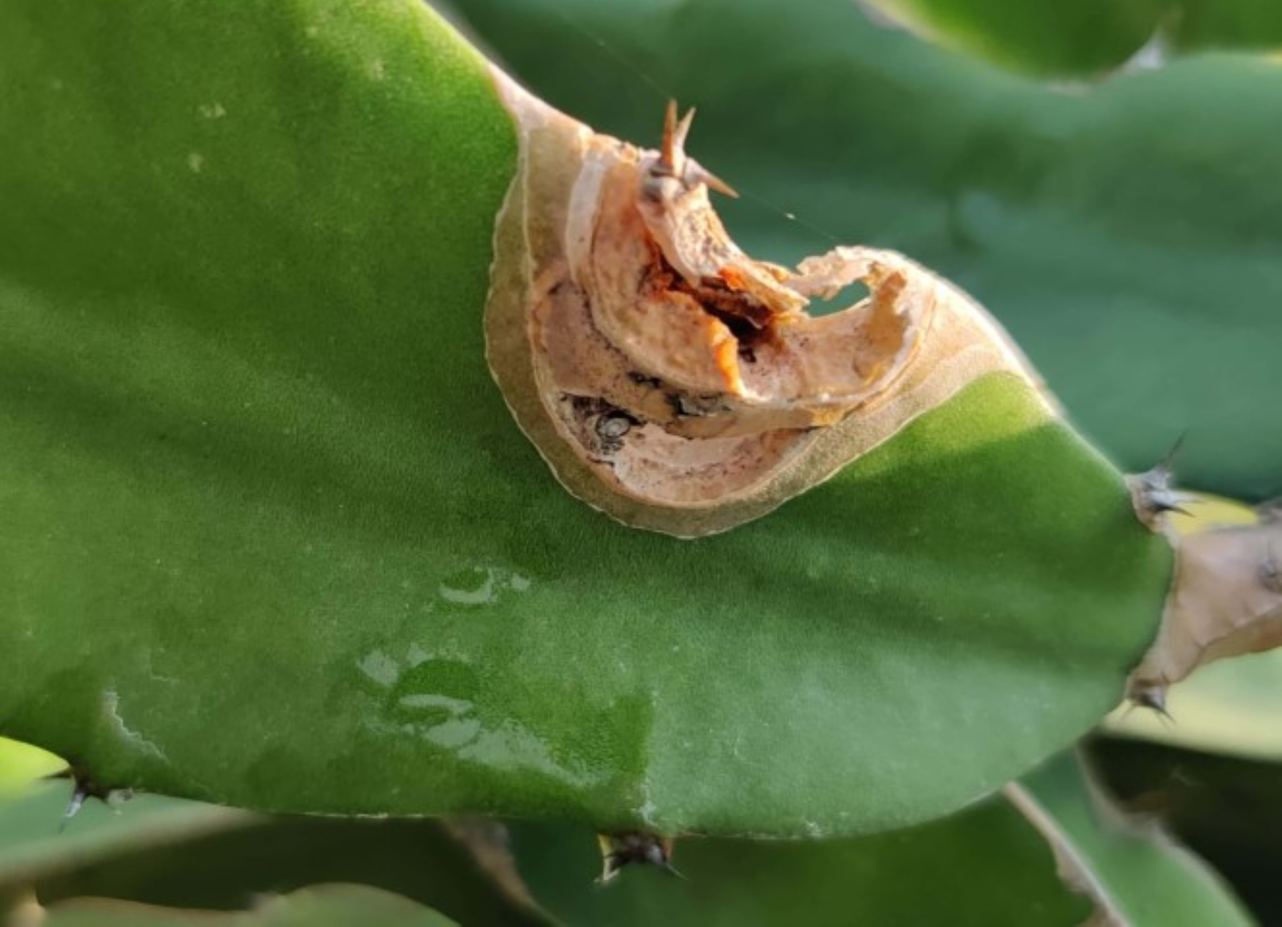stemcanker: (485, 61, 1036, 542)
